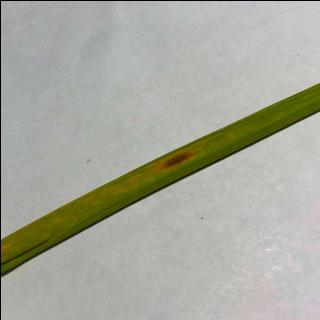bercak-Cokelat: (152, 144, 202, 172)
